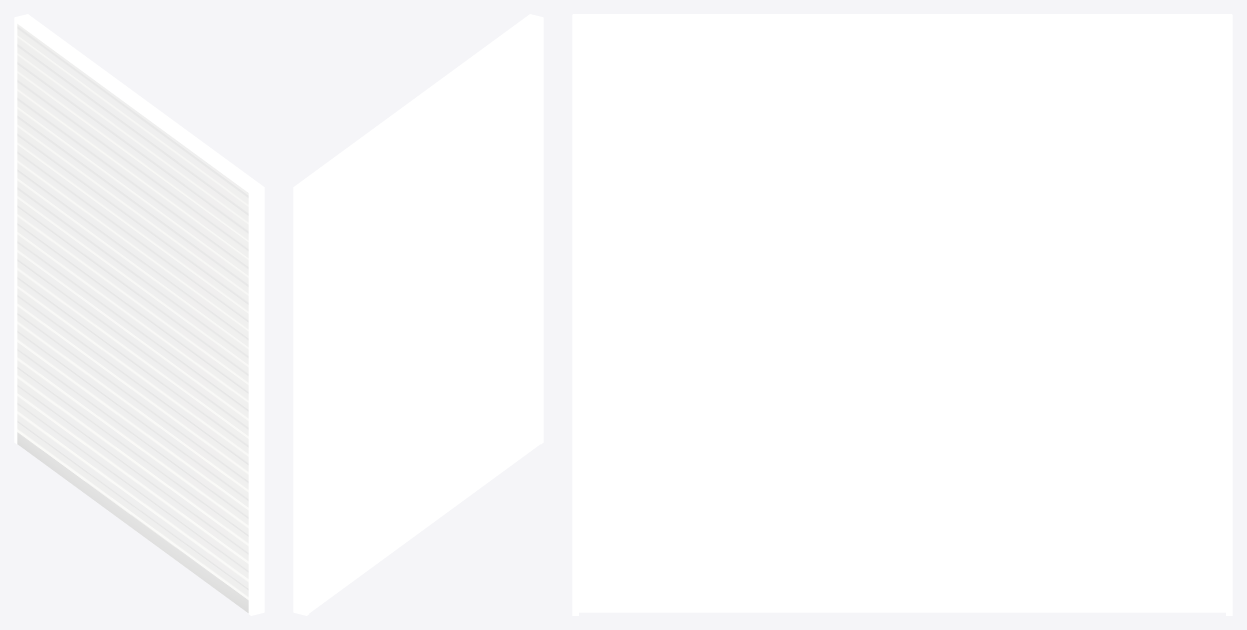
File: Roll-Up0.183a6a6a.gltf
The picture shows the model from 3 angles, left to right: view 1: azimuth 30°, elevation 25°; view 2: azimuth 150°, elevation 25°; view 3: azimuth 270°, elevation 25°; orthographic projection. The views are drawn at different scales.
Parts seen in each view (by area): view 1: doors, trims; view 2: doors, trims; view 3: doors, trims.
Boxes of the visible parts, x1,y1,x2,y2 form: doors: (17,24,248,612); trims: (14,14,264,615); doors: (309,24,540,612); trims: (293,14,543,615); doors: (579,29,1225,612); trims: (572,14,1232,615).
Size of the model in its own units: 0.2 by 6.01 by 6.07.
2 materials, 1 textured.
